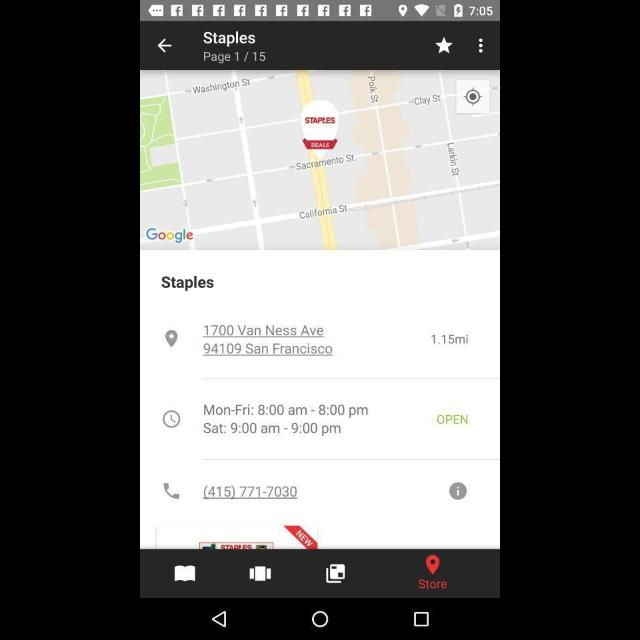icon: (162, 410, 182, 428), (326, 564, 346, 582), (249, 566, 271, 582), (174, 566, 196, 582), (435, 37, 453, 54), (426, 555, 440, 575), (449, 483, 466, 499), (312, 611, 328, 627), (158, 38, 172, 54), (164, 483, 178, 499), (212, 611, 226, 627), (414, 612, 428, 626), (166, 332, 178, 348), (479, 38, 483, 52)
iframe: (156, 525, 318, 549)
map: (141, 70, 499, 250)
panel: (141, 550, 499, 598), (140, 598, 500, 640)
text: (204, 404, 368, 436), (204, 325, 334, 357), (204, 484, 298, 500), (162, 276, 214, 292), (204, 52, 266, 64), (202, 32, 255, 46), (432, 335, 470, 345), (437, 415, 468, 425), (418, 579, 448, 589)
toolbar: (141, 22, 499, 70)
